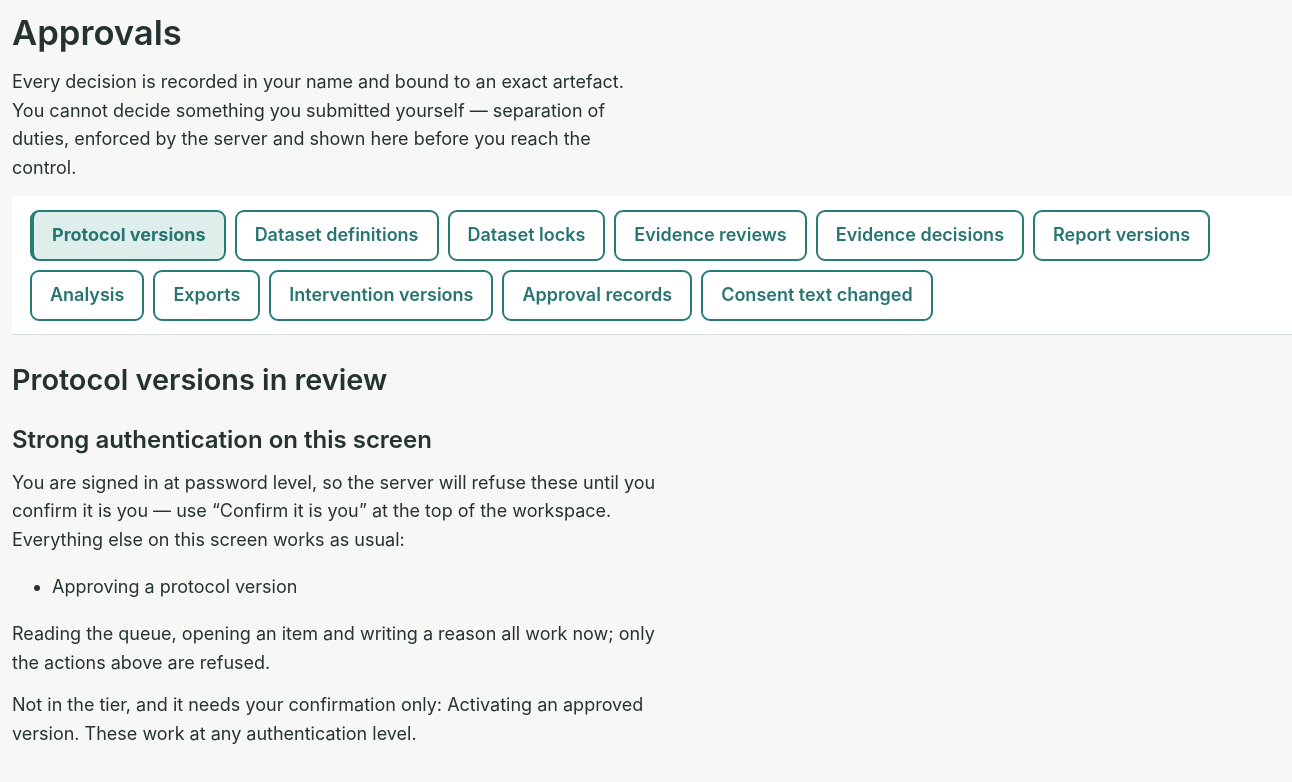
Scenario: approving along the analysis chain › carries the strong-authentication notice only where it is true
Click the button "Analysis" at point(87, 295), box [30, 270, 144, 321]
(page scrolled)
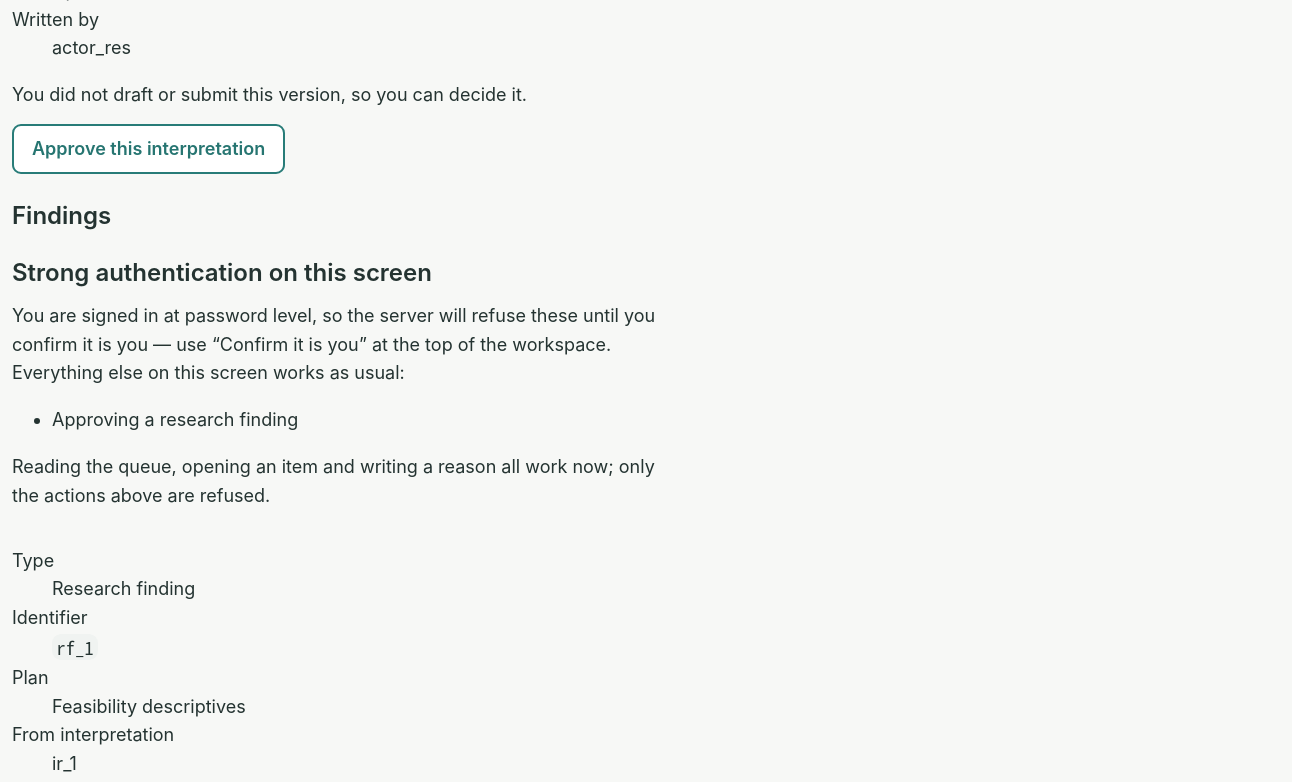
Result: the element that starts with "Strong authentication on this screen" shows "research finding" at [52, 409, 298, 430]
